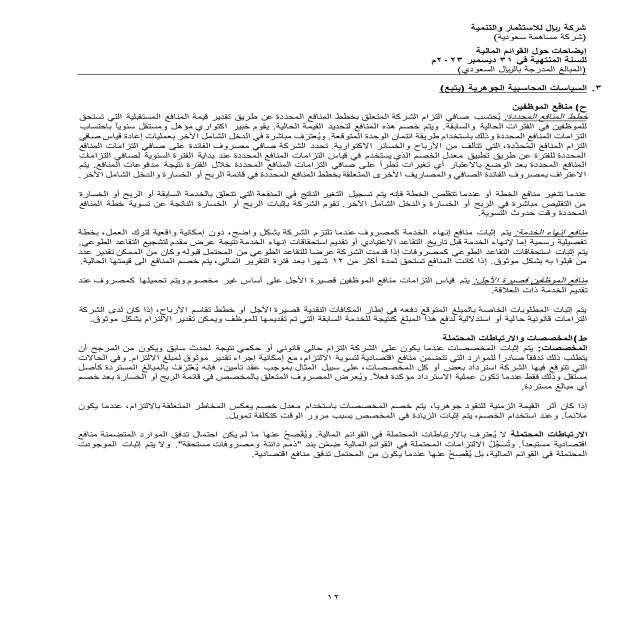notes: (463, 44, 590, 55)
text: (26, 100, 596, 476)
